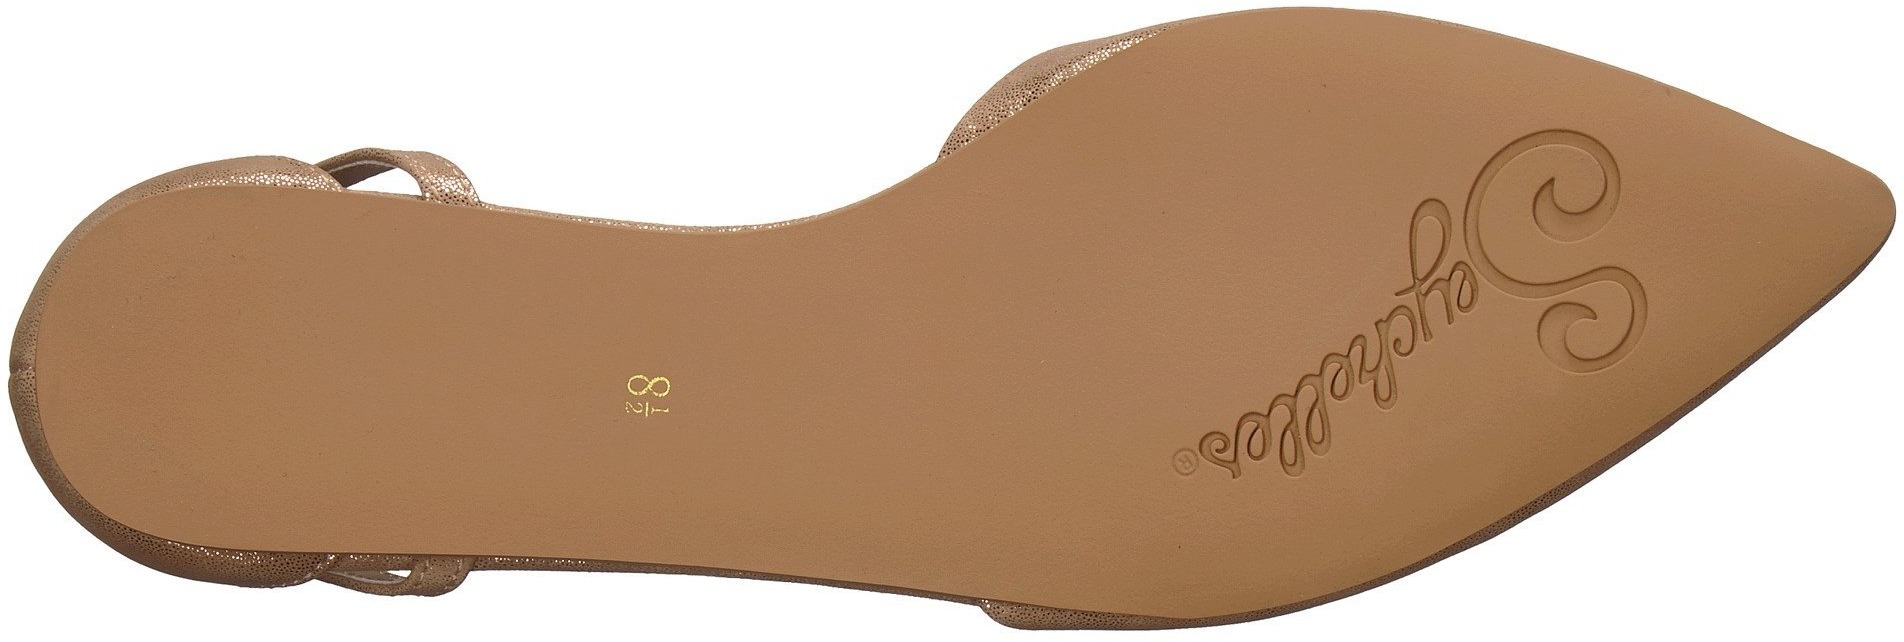other: (110, 217, 426, 509), (852, 330, 1118, 583), (1052, 123, 1249, 324), (1649, 148, 1817, 318), (440, 223, 593, 377)
text: (1362, 142, 1633, 388), (1205, 303, 1402, 504), (593, 339, 699, 448)
